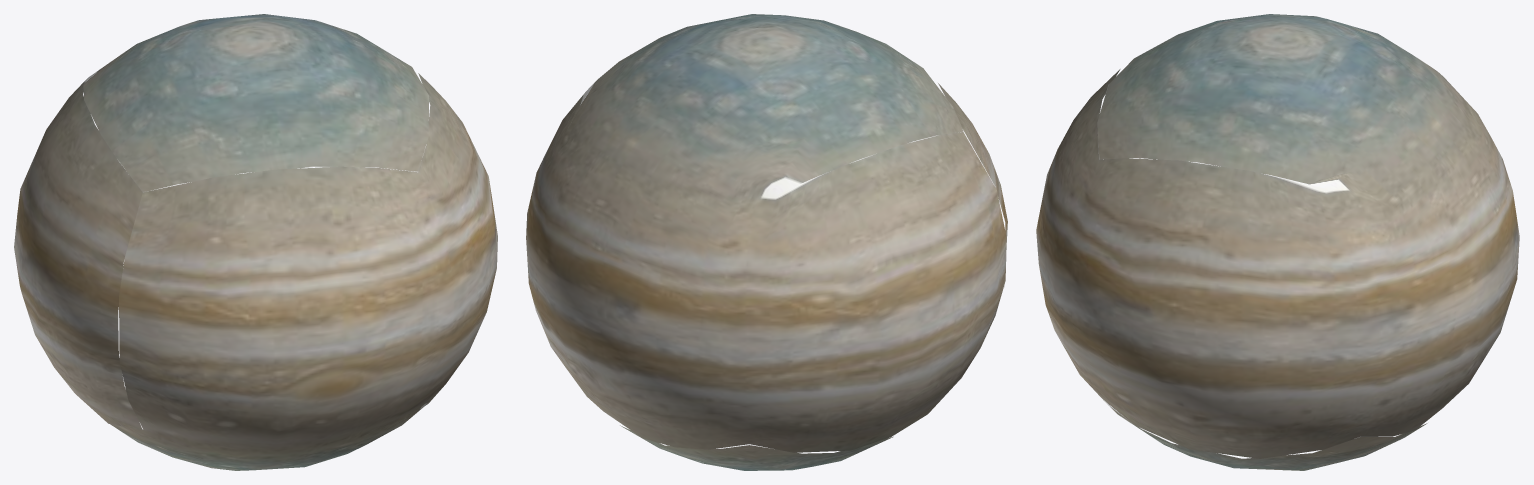
The model's file is jupiter-small.glb.
3 renders of one model, left to right at view 1: azimuth 30°, elevation 25°; view 2: azimuth 150°, elevation 25°; view 3: azimuth 270°, elevation 25°, orthographic.
Visible parts, largest first — view 1: Body; view 2: Body; view 3: Body.
Part boxes in pixels (x1,y1,x2,y2): Body: (14, 14, 497, 470); Body: (526, 14, 1007, 470); Body: (1036, 14, 1519, 470).
Bounding box in the file's own units: 2 × 1.88 × 2.
1 material, 1 textured.
